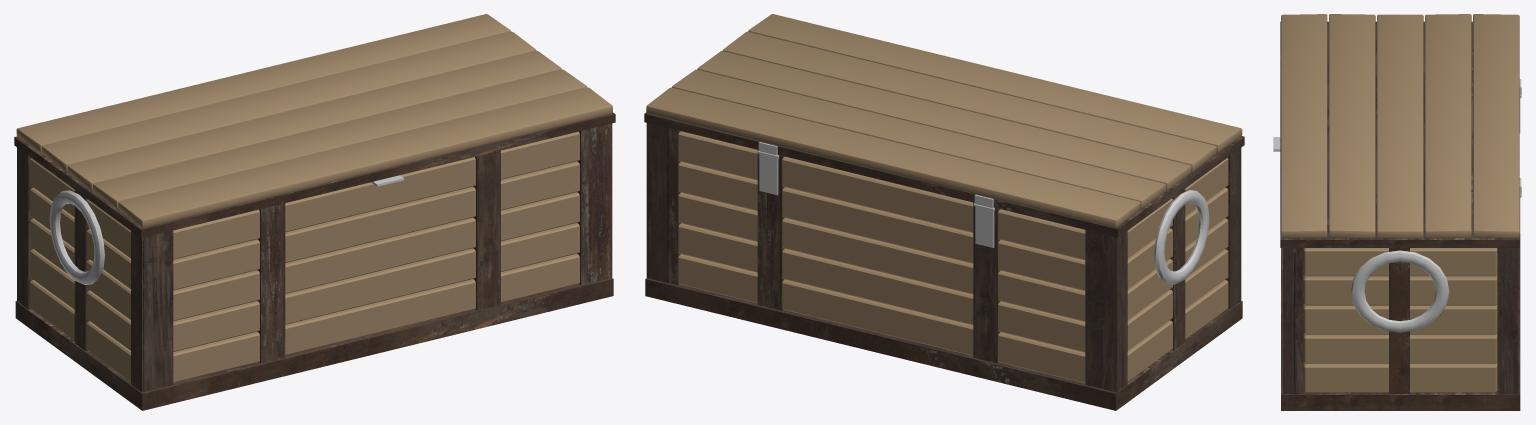
3 renders of one model, left to right at view 1: azimuth 30°, elevation 25°; view 2: azimuth 150°, elevation 25°; view 3: azimuth 270°, elevation 25°, orthographic. The views are drawn at different scales.
Visible parts, largest first — view 1: Crate_Top_Lid, Crate_Top_UnderLid, Crate_Handle; view 2: Crate_Top_Lid, Crate_Top_UnderLid, Crate_Handle, Crate_HingeBack; view 3: Crate_Top_Lid, Crate_Top_UnderLid, Crate_Handle, Crate_HingeBack.
Part boxes in pixels (x1,y1,x2,y2): Crate_Top_Lid: (16,14,612,382); Crate_Top_UnderLid: (14,112,615,410); Crate_Handle: (49,175,403,284); Crate_Top_Lid: (646,14,1242,383); Crate_Top_UnderLid: (644,112,1244,410); Crate_Handle: (758,151,1209,284); Crate_HingeBack: (758,142,994,247); Crate_Top_Lid: (1281,14,1519,392); Crate_Top_UnderLid: (1280,21,1520,410); Crate_Handle: (1273,88,1521,332); Crate_HingeBack: (1519,79,1521,232).
Size of the model in its own units: 133 by 50.52 by 62.93.
